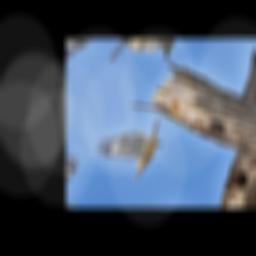Woodpecker: (91, 112, 180, 192)
